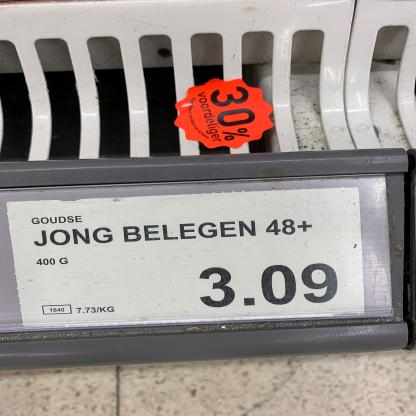prtg: (7, 188, 365, 329)
